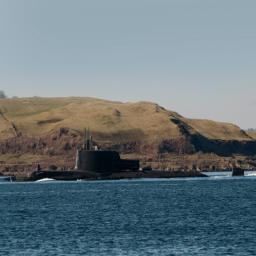submarine: (13, 150, 245, 182)
